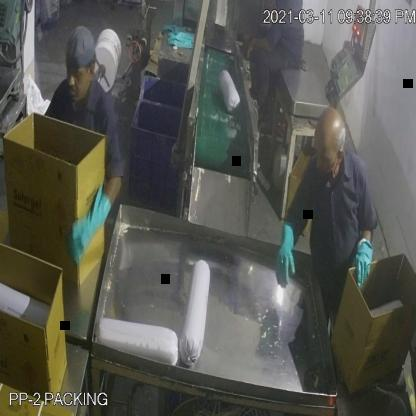glove: (345, 233, 378, 293), (276, 212, 298, 294)
no_glove: (242, 27, 276, 71)
